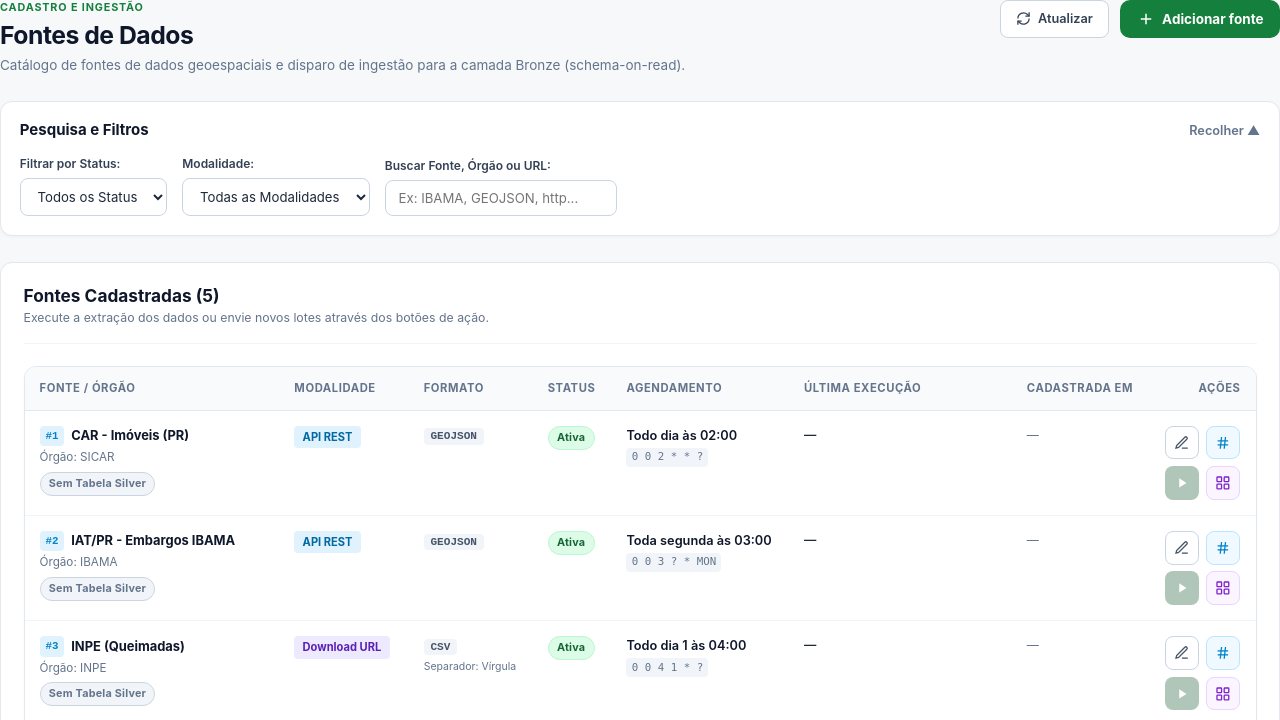
Test case: CadastroFontes — modal de cadastro/edição › abre o mesmo modal em modo edição, preenchido, ao clicar no lápis
Click the button with class "btn-editar" in the row of "#1" at (1182,442), box [1165,426,1199,459]
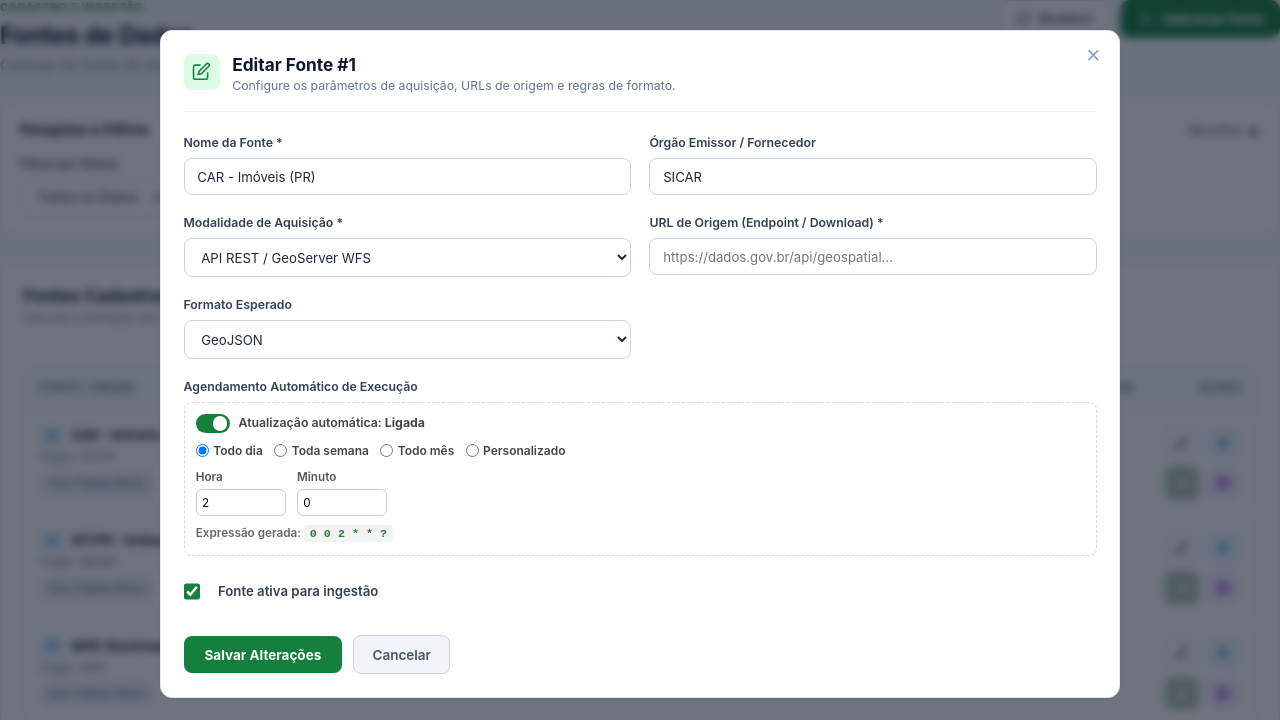
Expected: the element with class "modal-dialog" shows "Editar Fonte #1", [232,54,356,74]
Expected: the field labelled "Nome da Fonte *" holds "CAR - Imóveis (PR)", [184,158,631,195]
